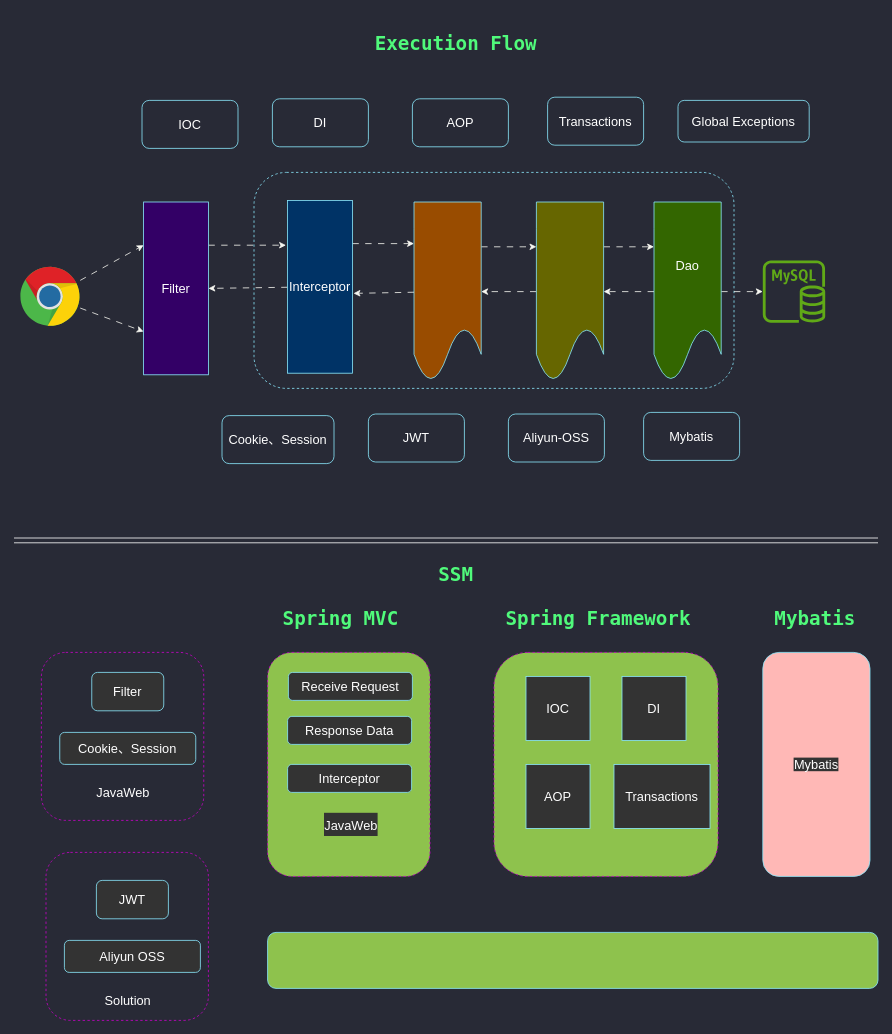
Image size: 892x1034. Some labels were removed from this diagram. The box of each missing label's shape, as (x1, y1, x2, y2) in pixels:
Controller: (413, 201, 481, 381)
Service: (536, 201, 604, 381)
SpringBoot: (267, 932, 878, 988)
